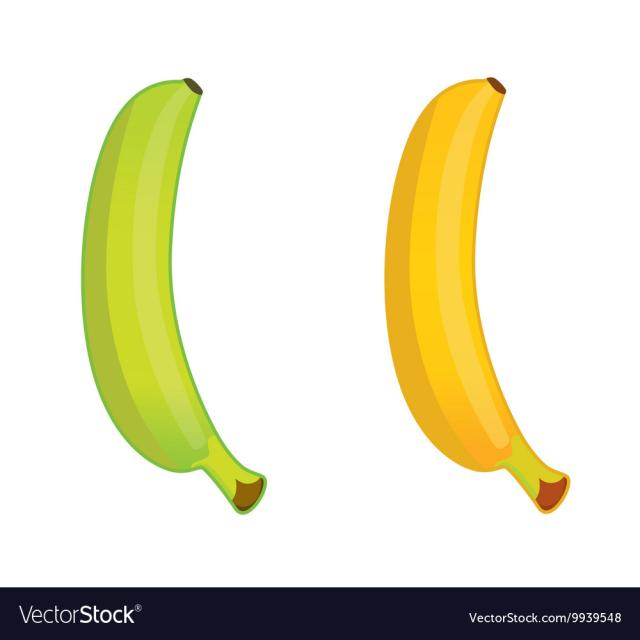non_orange: (382, 77, 576, 520), (77, 74, 269, 517)
